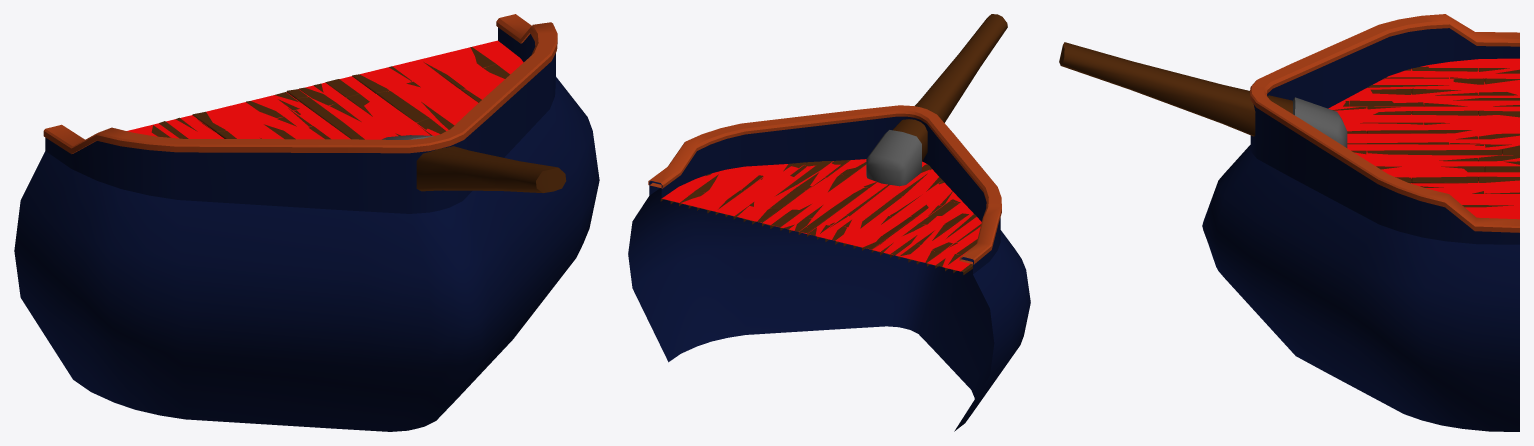
The model's file is Hull_Front.fbx.
3 views of the same model, side by side, from view 1: azimuth 30°, elevation 25°; view 2: azimuth 150°, elevation 25°; view 3: azimuth 270°, elevation 25° (orthographic). The views are drawn at different scales.
Visible parts, largest first — view 1: Hull_Front, Hull_Front_Projector, Hull_Front_Boegspriet; view 2: Hull_Front, Hull_Front_Projector, Hull_Front_Boegspriet; view 3: Hull_Front, Hull_Front_Projector, Hull_Front_Boegspriet.
Boxes of the visible parts, <box> form: Hull_Front: <box>14,14,599,431</box>; Hull_Front_Projector: <box>127,40,523,139</box>; Hull_Front_Boegspriet: <box>382,135,566,192</box>; Hull_Front: <box>628,105,1030,431</box>; Hull_Front_Projector: <box>662,159,981,271</box>; Hull_Front_Boegspriet: <box>866,14,1007,186</box>; Hull_Front: <box>1202,14,1519,431</box>; Hull_Front_Projector: <box>1328,58,1519,219</box>; Hull_Front_Boegspriet: <box>1059,42,1347,147</box>.
Size of the model in its own units: 23.78 by 15.28 by 21.14.
